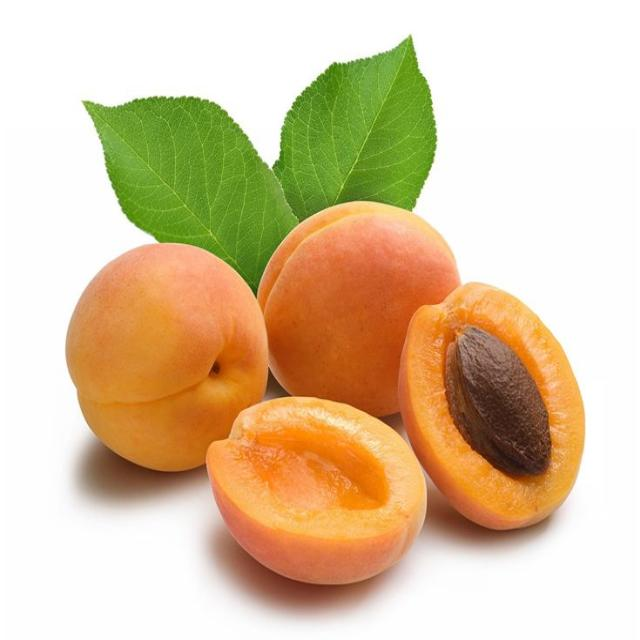kayisi: (397, 284, 586, 534), (65, 244, 268, 473), (256, 201, 462, 418), (204, 397, 428, 589)
kayisicekirdegi: (448, 331, 550, 472)
kayisiyapragi: (83, 40, 437, 292)
